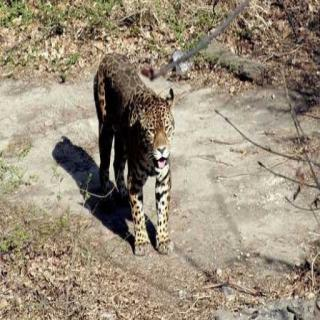Leopard: (68, 38, 197, 269)
